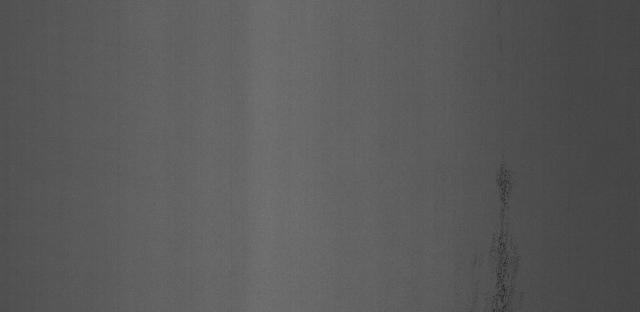inclusion: (466, 157, 542, 308)
